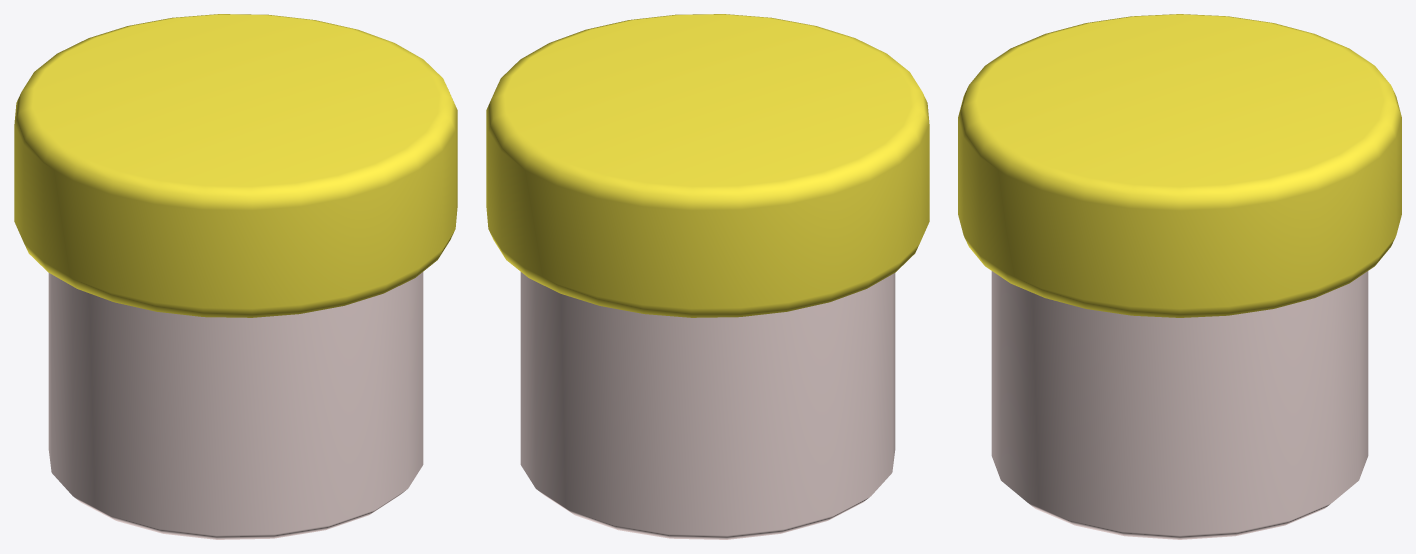
The model's file is City_15_Chair_1.glb.
3 renders of one model, left to right at view 1: azimuth 30°, elevation 25°; view 2: azimuth 150°, elevation 25°; view 3: azimuth 270°, elevation 25°, orthographic.
Visible parts, largest first — view 1: City_15_Chair_1; view 2: City_15_Chair_1; view 3: City_15_Chair_1.
Boxes of the visible parts, x1,y1,x2,y2 form: City_15_Chair_1: (14,14,457,539); City_15_Chair_1: (486,14,929,539); City_15_Chair_1: (958,14,1401,539).
Bounding box in the file's own units: 0.4965 × 0.449 × 0.4965.
Materials: 1 (1 with a texture image).
